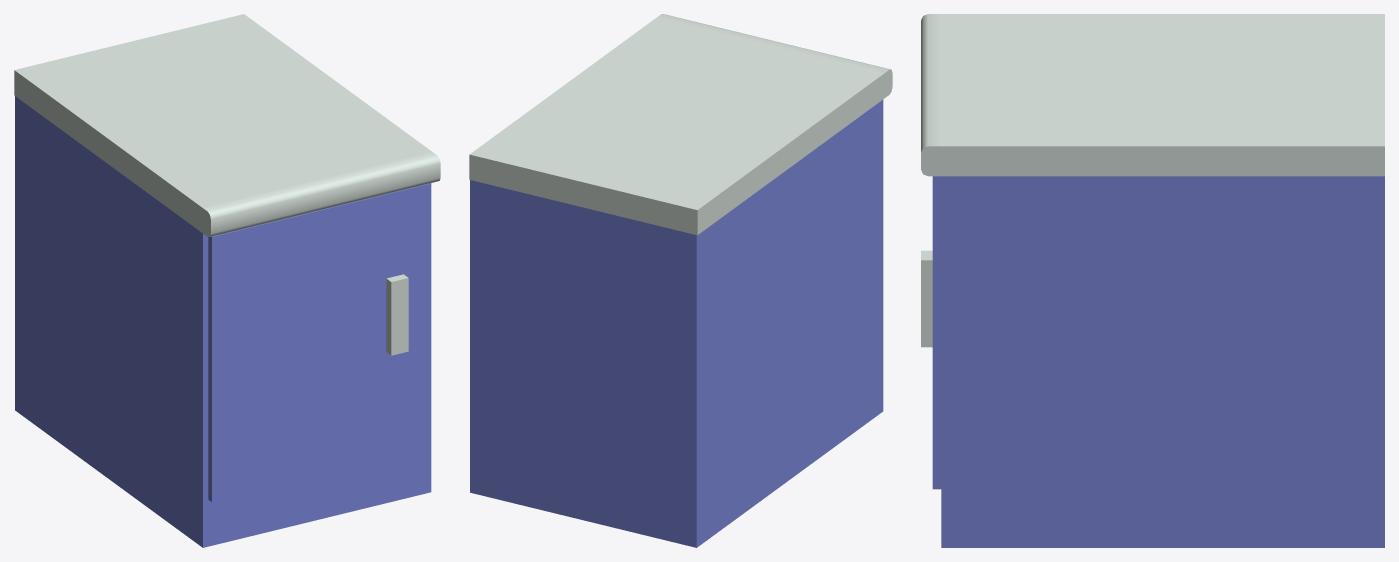
The model's file is KitchenTable_2.fbx.
3 views of the same model, side by side, from view 1: azimuth 30°, elevation 25°; view 2: azimuth 150°, elevation 25°; view 3: azimuth 270°, elevation 25° (orthographic). The views are drawn at different scales.
Visible parts, largest first — view 1: Cube.003, Cube.008; view 2: Cube.003; view 3: Cube.003, Cube.008.
Part boxes in pixels (x1,y1,x2,y2): Cube.003: [14, 14, 440, 547]; Cube.008: [386, 274, 408, 355]; Cube.003: [469, 14, 892, 547]; Cube.003: [921, 14, 1384, 547]; Cube.008: [921, 250, 932, 347].
Size of the model in its own units: 70.61 by 100 by 105.
